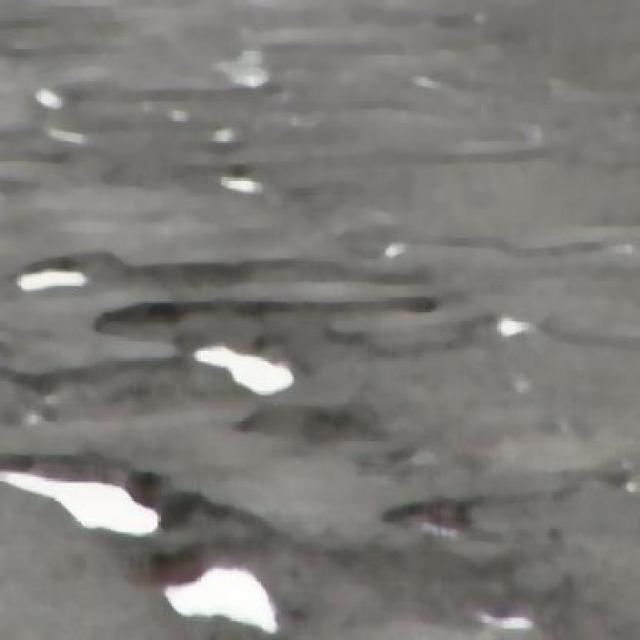Pothole: (0, 438, 155, 544), (158, 552, 288, 638), (184, 318, 290, 410), (9, 256, 100, 307)
